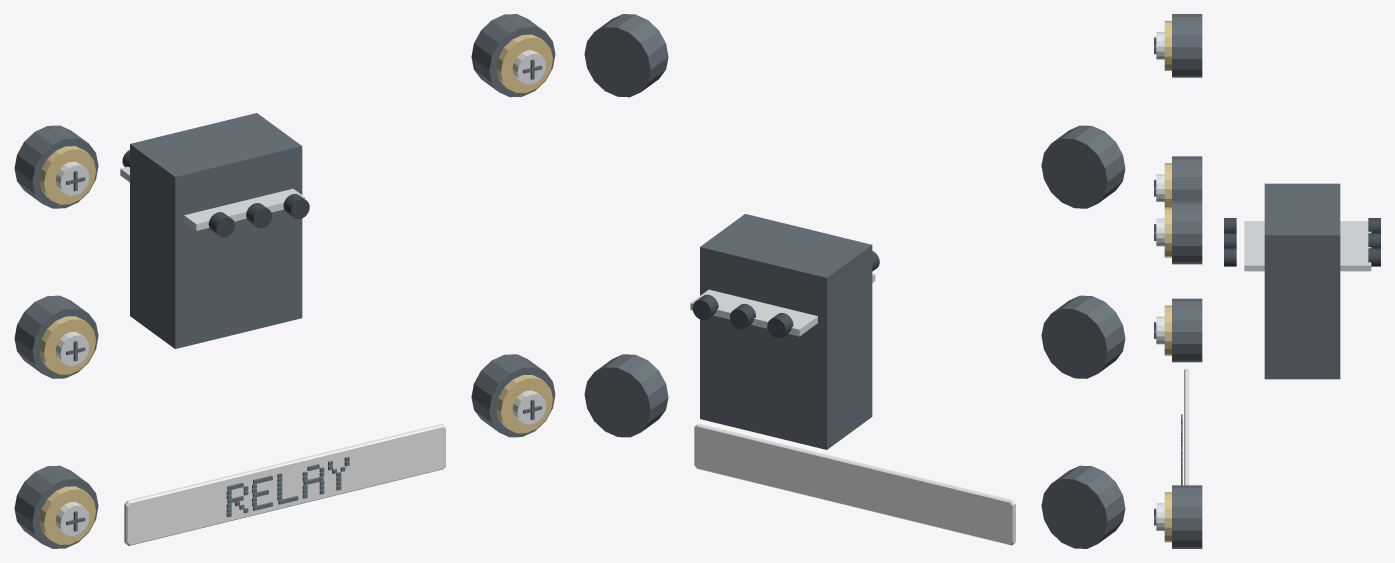
Rendered from auxiliaryRelay.glb.
3 renders of one model, left to right at view 1: azimuth 30°, elevation 25°; view 2: azimuth 150°, elevation 25°; view 3: azimuth 270°, elevation 25°, orthographic. The views are drawn at different scales.
Parts seen in each view (by area): view 1: auxiliaryRelay-preview; view 2: auxiliaryRelay-preview; view 3: auxiliaryRelay-preview.
Boxes of the visible parts, bbox=[...] form: auxiliaryRelay-preview: bbox=[14, 14, 555, 548]; auxiliaryRelay-preview: bbox=[584, 14, 1125, 548]; auxiliaryRelay-preview: bbox=[1154, 14, 1380, 548].
Size of the model in its own units: 2.48 by 1.95 by 1.11.
